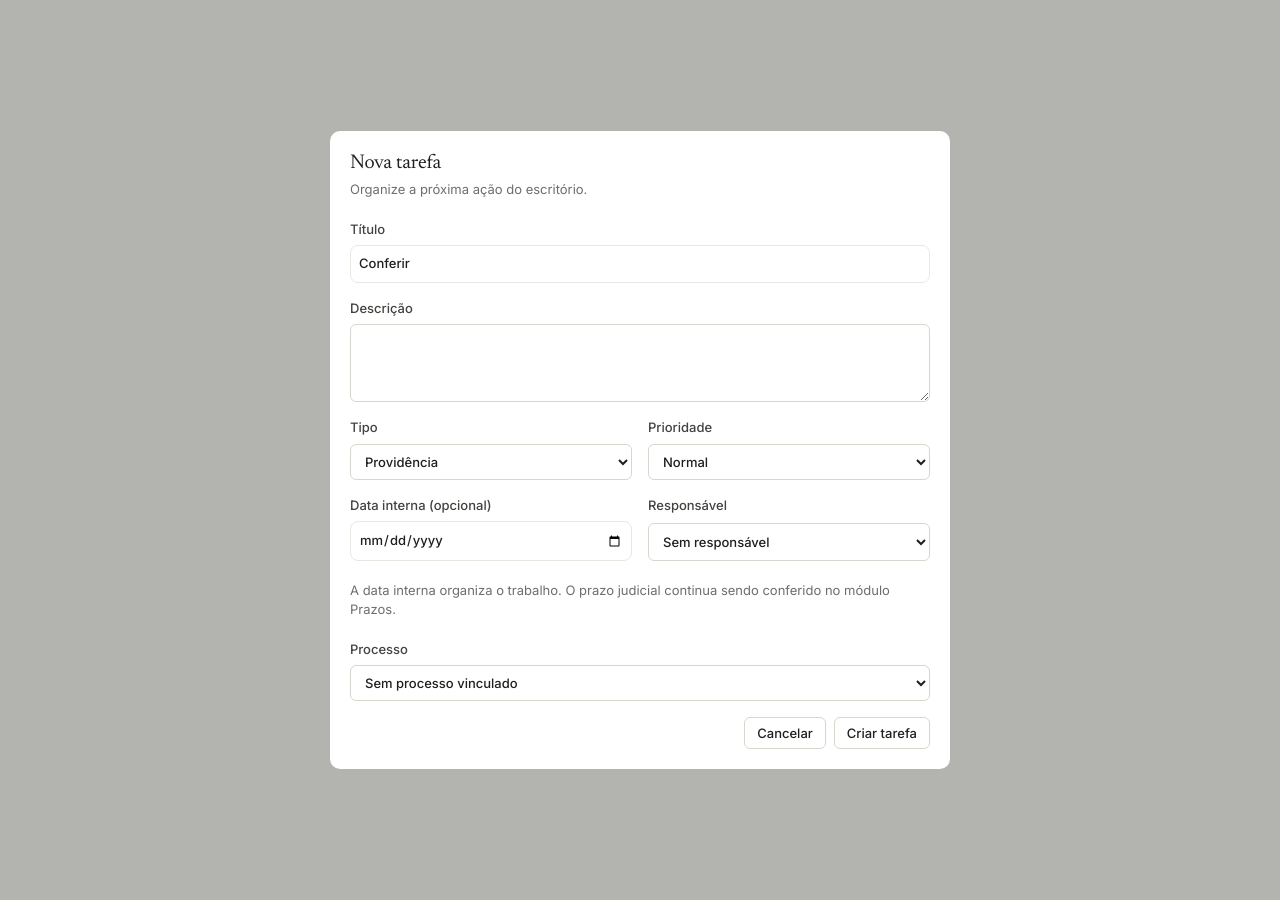
Tarefa a partir da revisão › mantém o formulário aberto quando o servidor recusa a gravação
Click the button "Criar tarefa": (882, 733) x1=834 y1=717 x2=930 y2=749
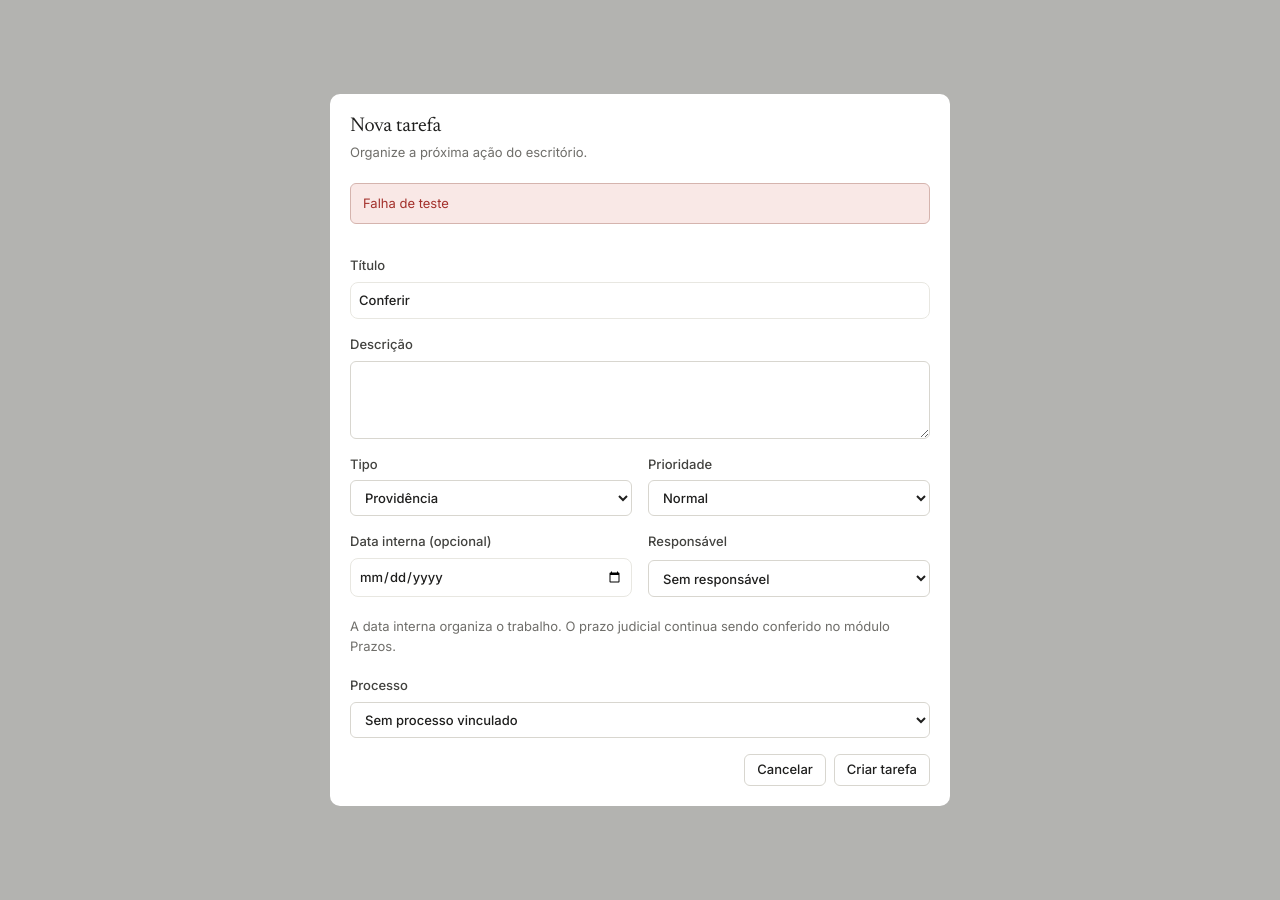
Check: the message "Falha de teste" is shown, box x1=350 y1=182 x2=930 y2=224
